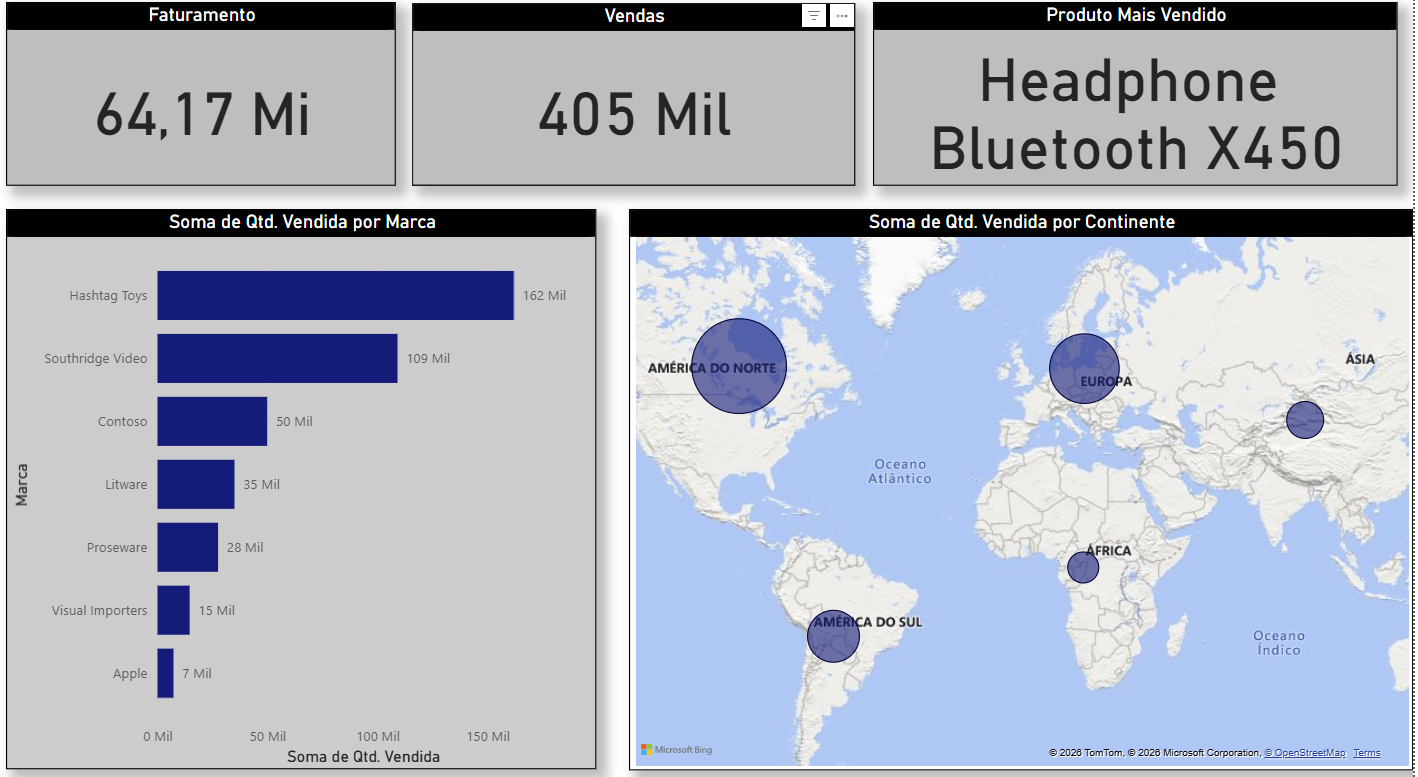

The page's visual inventory and layout, read from the dashboard file:
{"tool":"powerbi","page":{"name":"Página 1","canvas":[1280,720],"ordinal":0},"visuals":[{"type":"card","title":"Faturamento","fields":{"Values":["Sum(Vendas.Faturamento)"]},"box":[17.4,22.1,350,165.1],"z":0},{"type":"card","title":"Vendas","fields":{"Values":["Sum(Vendas.Qtd. Vendida)"]},"box":[381.4,23.3,397.7,164],"z":1000},{"type":"card","title":"Produto Mais Vendido","fields":{"Values":["Min(Vendas.Produto)"]},"box":[795.4,22.1,470.9,165.1],"z":2000},{"type":"barChart","fields":{"Category":["Vendas.Marca"],"Y":["Sum(Vendas.Qtd. Vendida)"]},"box":[17.4,208.1,530.2,503.5],"z":3000},{"type":"map","fields":{"Category":["Vendas.Continente"],"Size":["Sum(Vendas.Qtd. Vendida)"]},"box":[576.4,208.3,703.8,503.6],"z":4000}]}

Visuals, with their boxes in screenshot pixels (x1, y1, x2, y2), scaled from the page's 1280x720 canvas onto the 1418x777 screenshot:
"Faturamento" card: rect(19, 24, 407, 202)
"Vendas" card: rect(423, 25, 863, 202)
"Produto Mais Vendido" card: rect(881, 24, 1403, 202)
barChart - Vendas.Marca x Sum(Vendas.Qtd. Vendida): rect(19, 225, 607, 768)
map - Vendas.Continente x Sum(Vendas.Qtd. Vendida): rect(639, 225, 1417, 768)
